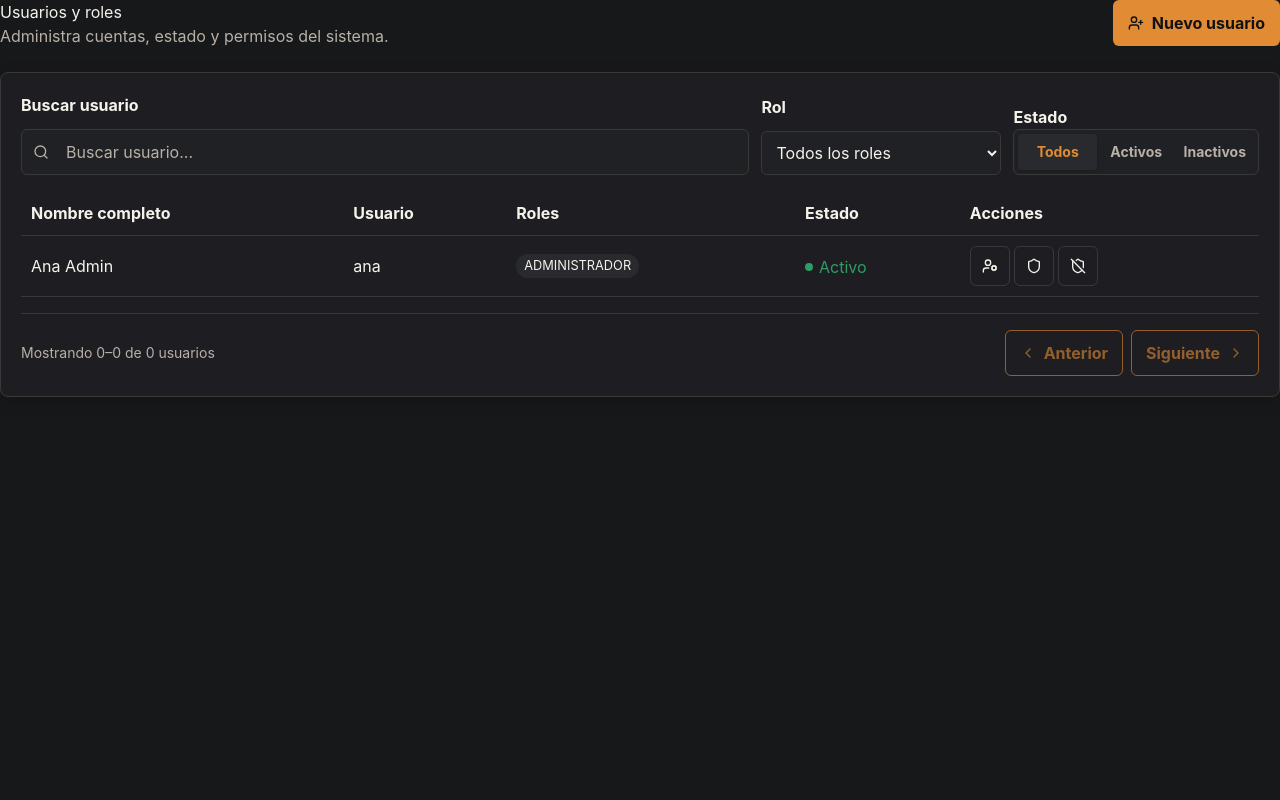
UsersPage › renders mobile-compatible user actions and password wording from hasPassword
This screenshot has width=1280, height=800.
Click the button named "Establecer contraseña" at (1034, 266), box [1014, 246, 1054, 286]
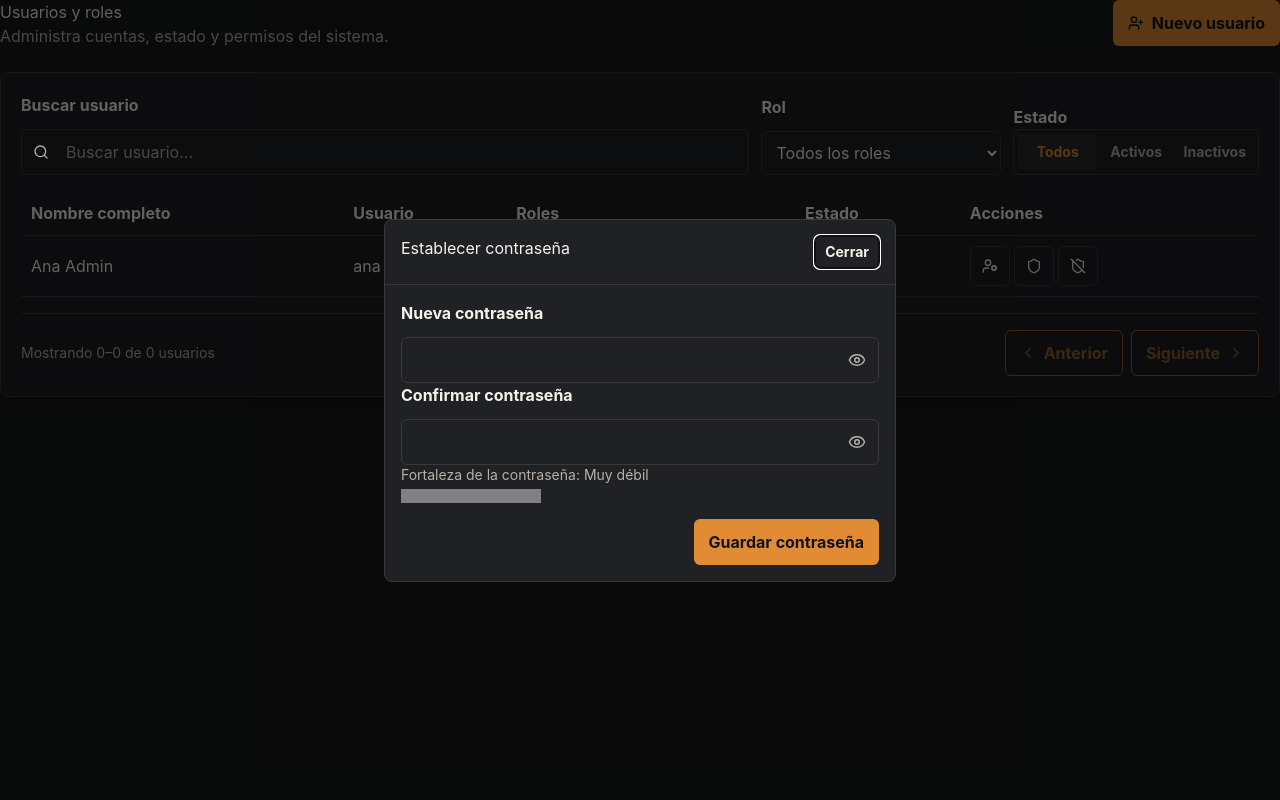
Now the dialog "Establecer contraseña" is shown, box [384, 218, 896, 582]
Now the password field labelled "Confirmar contraseña" is shown, box [401, 418, 879, 464]
